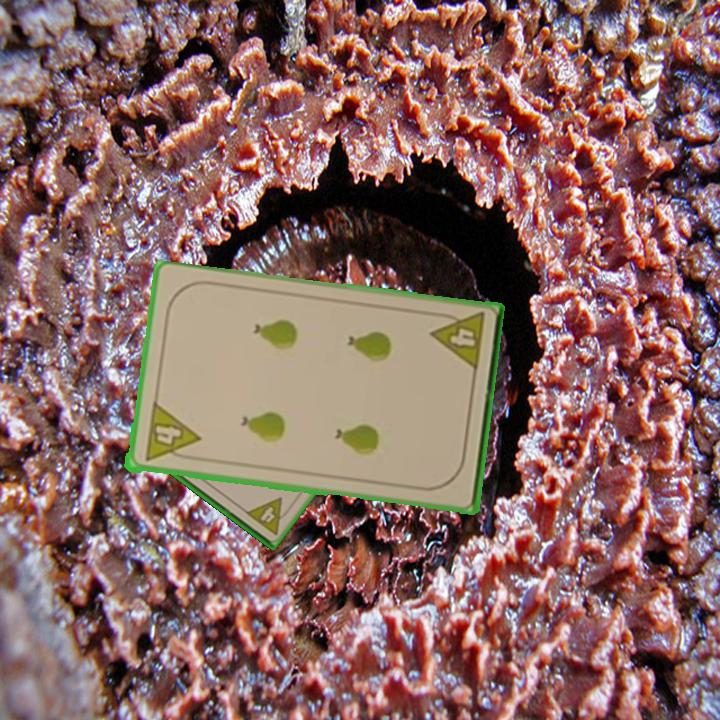4p: (426, 308, 488, 374), (141, 401, 201, 465), (242, 492, 295, 538)
